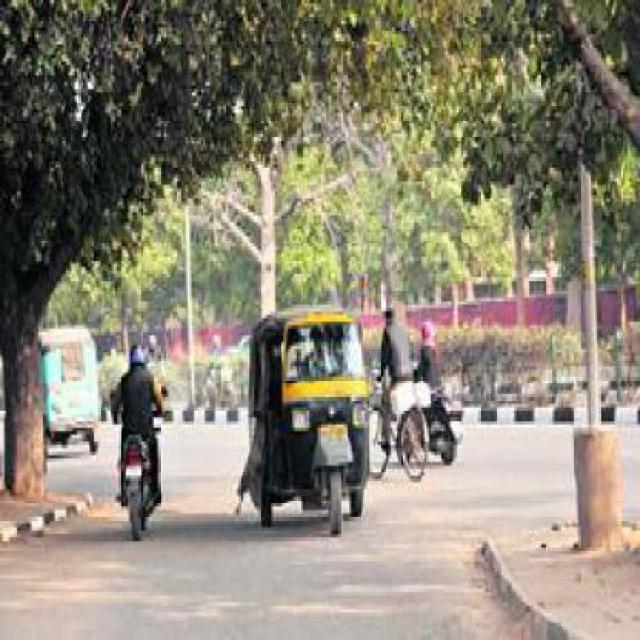motorbike: (112, 338, 172, 532)
vehicle: (238, 294, 378, 542)
